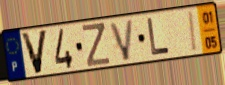4: (54, 27, 75, 70)
I: (187, 9, 199, 54)
L: (146, 16, 172, 58)
V: (19, 28, 50, 76), (108, 17, 136, 63)
Z: (81, 22, 112, 69)
